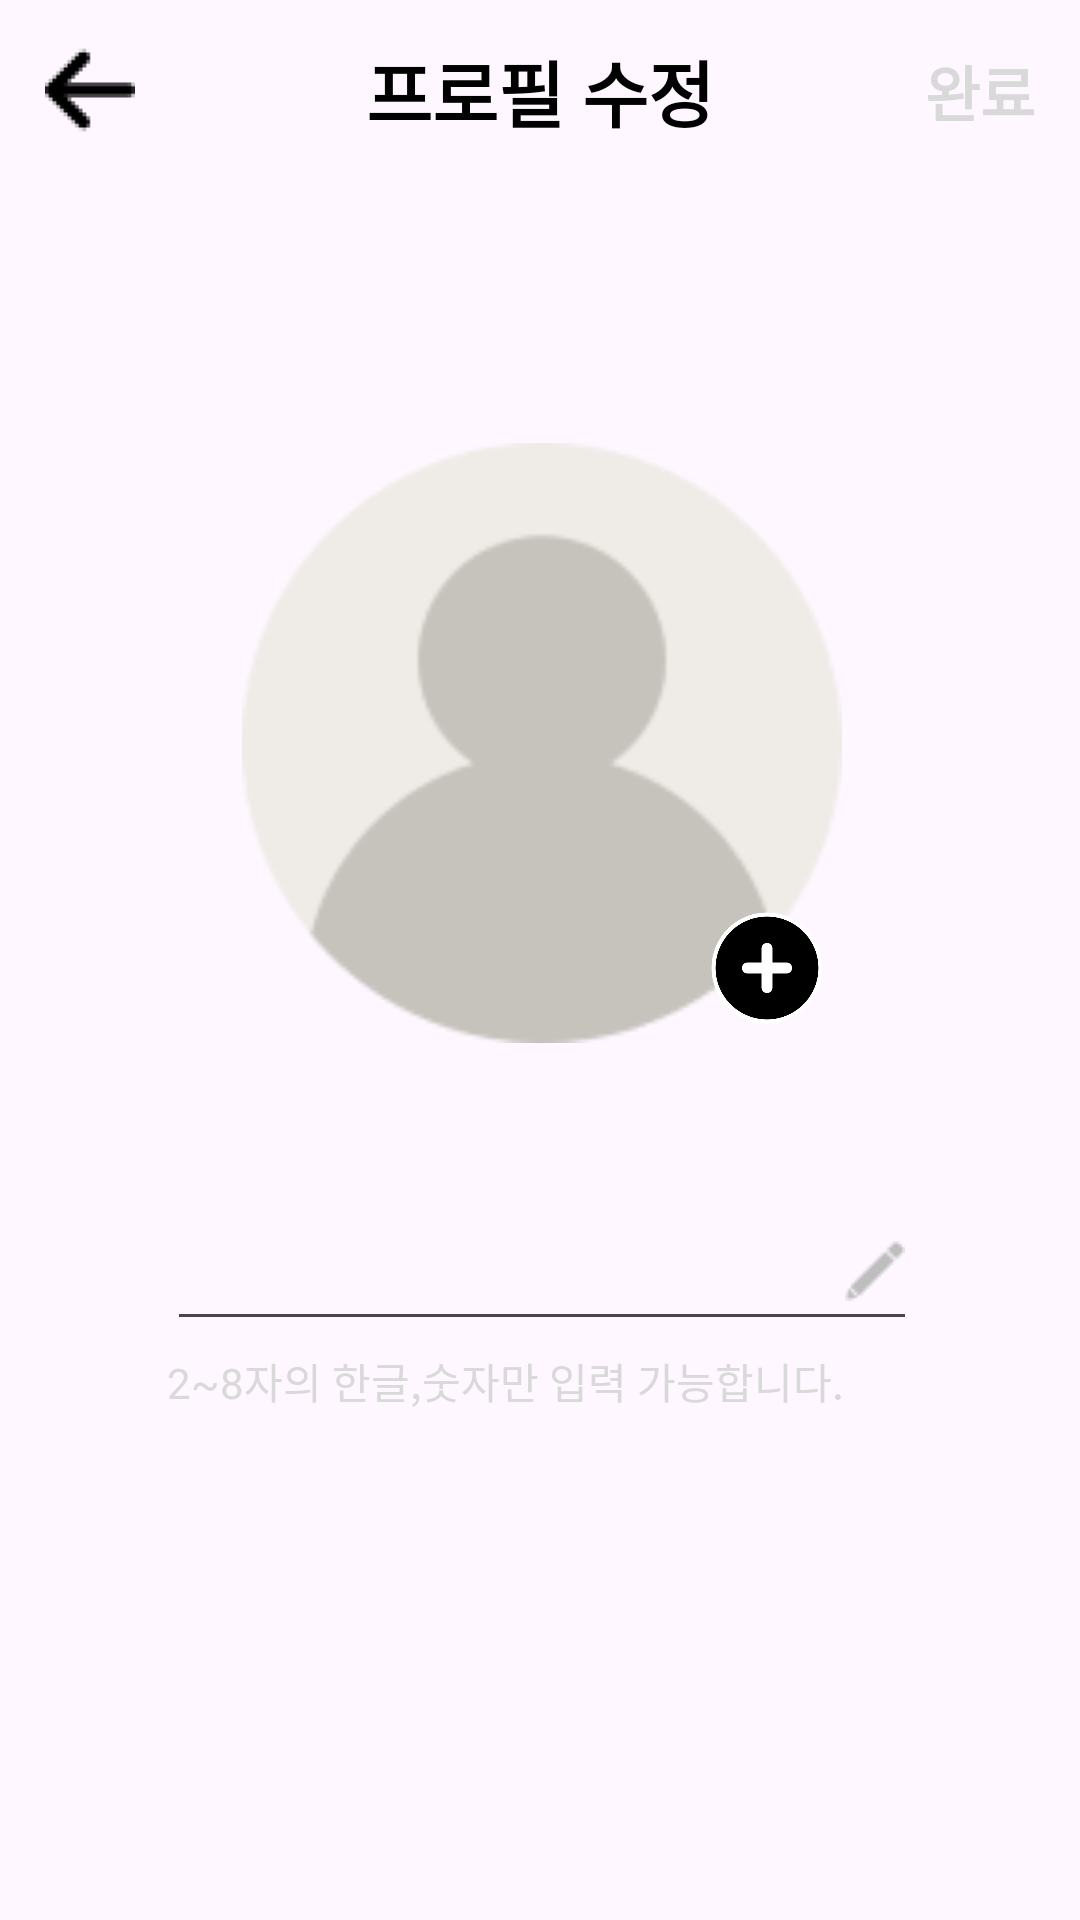

Named icons in this screenshot (1080px x 1920px) and their bounding boxes, (x1, y1, x2, y2):
back: (45, 49, 135, 131)
